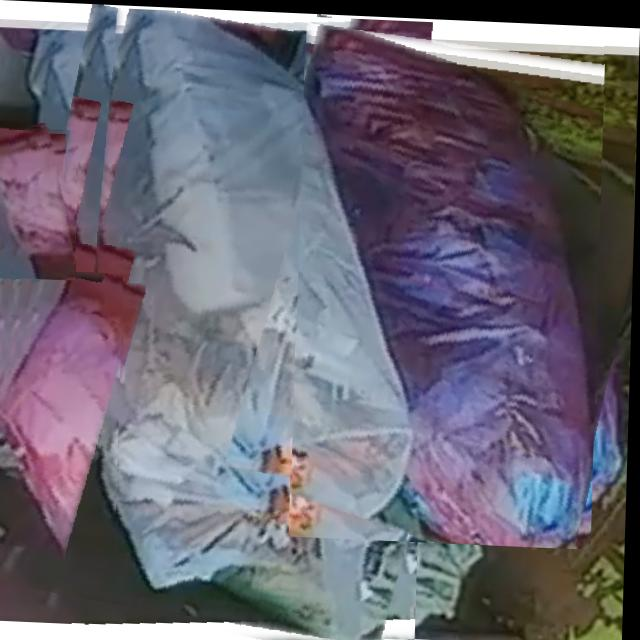other_trashbag: (97, 8, 424, 640), (305, 24, 596, 542), (0, 271, 124, 556), (0, 126, 77, 278)
